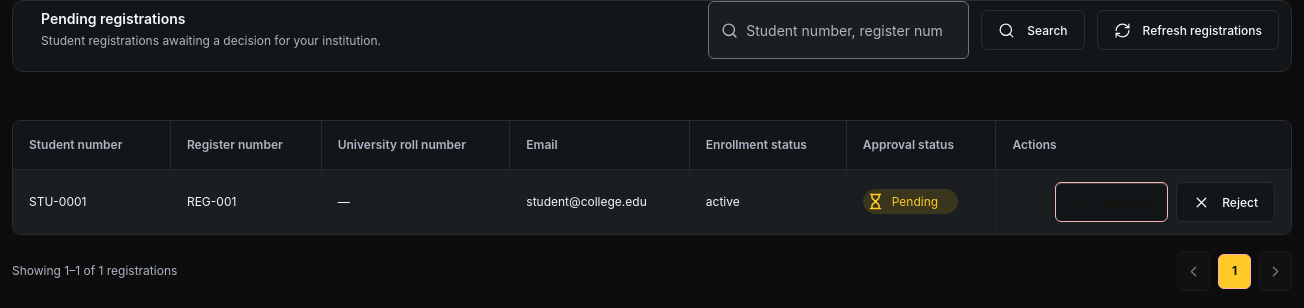
Test: StaffApprovals decisions › surfaces a decision failure without clearing the queue
Expected: the text "STU-0001" is shown, left=13, top=169, right=171, bottom=234
Click the button "Reject".
click(1226, 202)  # box left=1176, top=182, right=1275, bottom=222
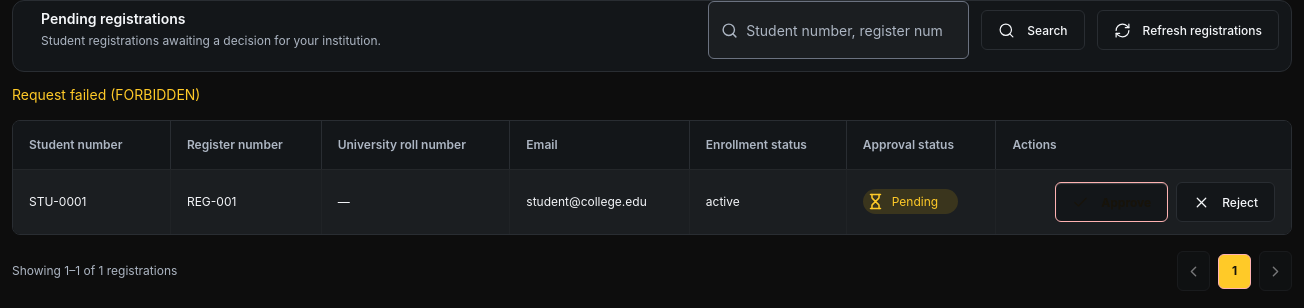
Expected: the text "STU-0001" is shown, left=13, top=169, right=171, bottom=234
Expected: the text "Request failed (FORBIDDEN)" is shown, left=12, top=86, right=200, bottom=103
